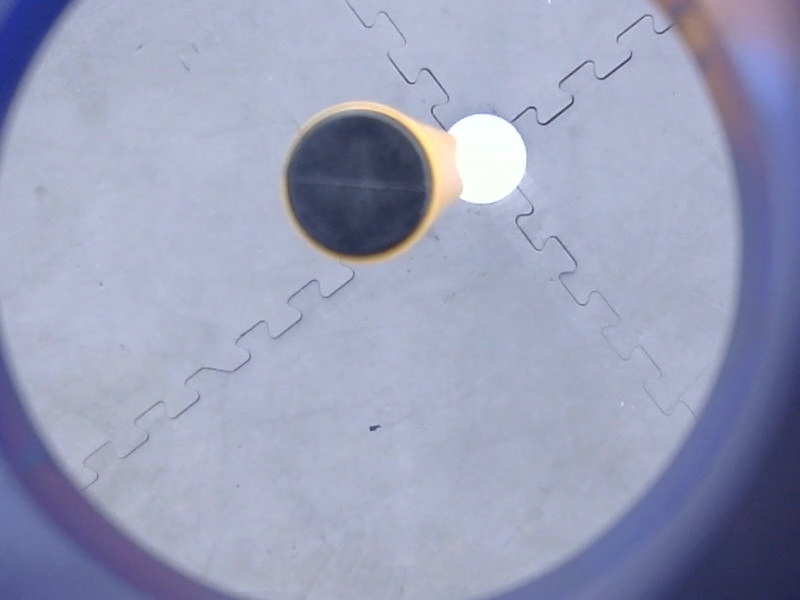tip: (268, 89, 452, 273)
